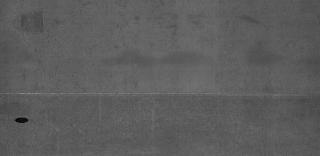punching hole: (14, 115, 30, 125)
rolled pit: (18, 12, 46, 36)
welding line: (0, 90, 318, 100)
